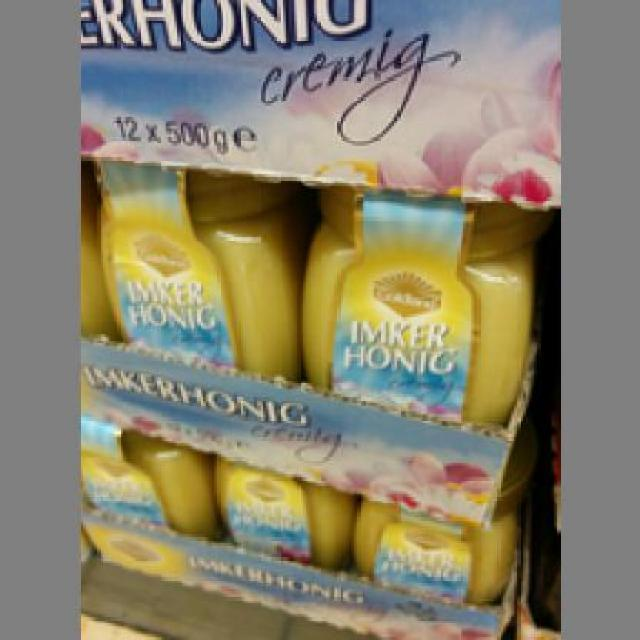Honey: (303, 180, 540, 420), (88, 160, 301, 389), (77, 412, 220, 554), (354, 491, 517, 606), (208, 454, 352, 563)
